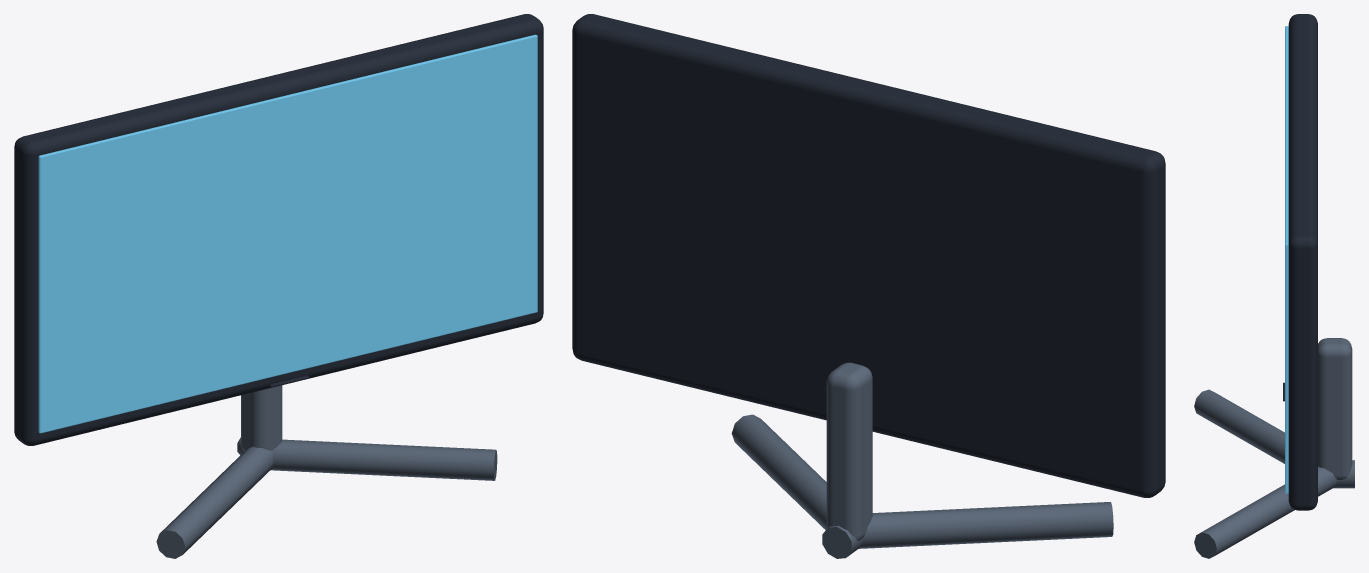
The model's file is monitor.27.flat.4888cde914.glb.
3 views of the same model, side by side, from view 1: azimuth 30°, elevation 25°; view 2: azimuth 150°, elevation 25°; view 3: azimuth 270°, elevation 25° (orthographic). The views are drawn at different scales.
Visible parts, largest first — view 1: screen, body, stand; view 2: body, stand; view 3: body, stand, screen.
Part boxes in pixels (x1,y1,x2,y2): screen: [38, 34, 537, 433]; body: [14, 14, 543, 445]; stand: [156, 385, 497, 558]; body: [572, 14, 1165, 497]; stand: [731, 362, 1113, 558]; body: [1283, 14, 1317, 510]; stand: [1194, 338, 1354, 558]; screen: [1285, 26, 1288, 493].
Bounding box in the file's own units: 0.61 × 0.449 × 0.1809.
